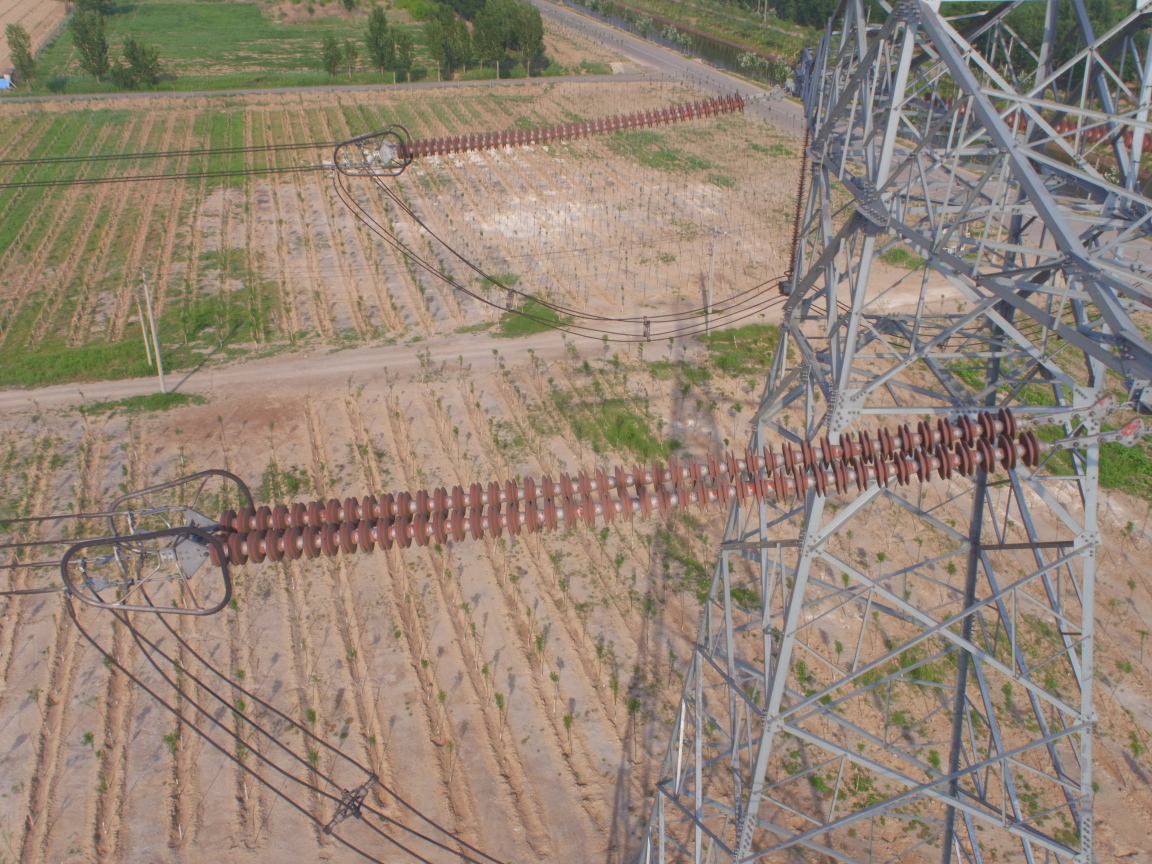insulator: (196, 401, 1087, 571), (392, 86, 765, 165)
